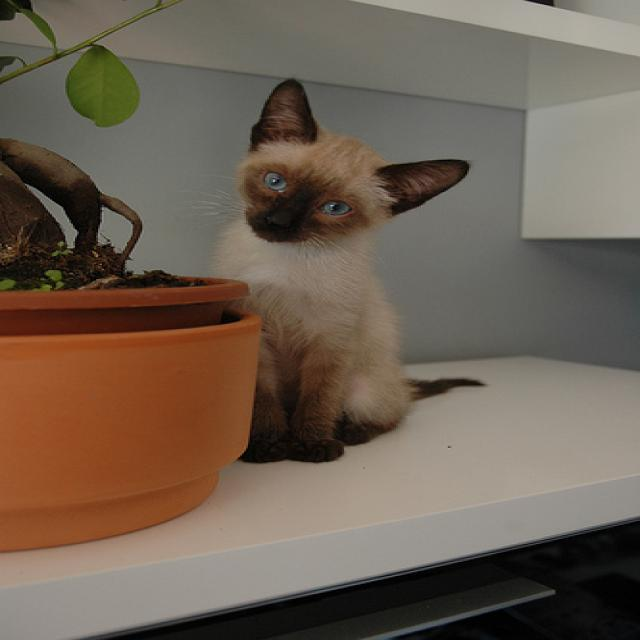Siamese: (237, 78, 465, 239)
